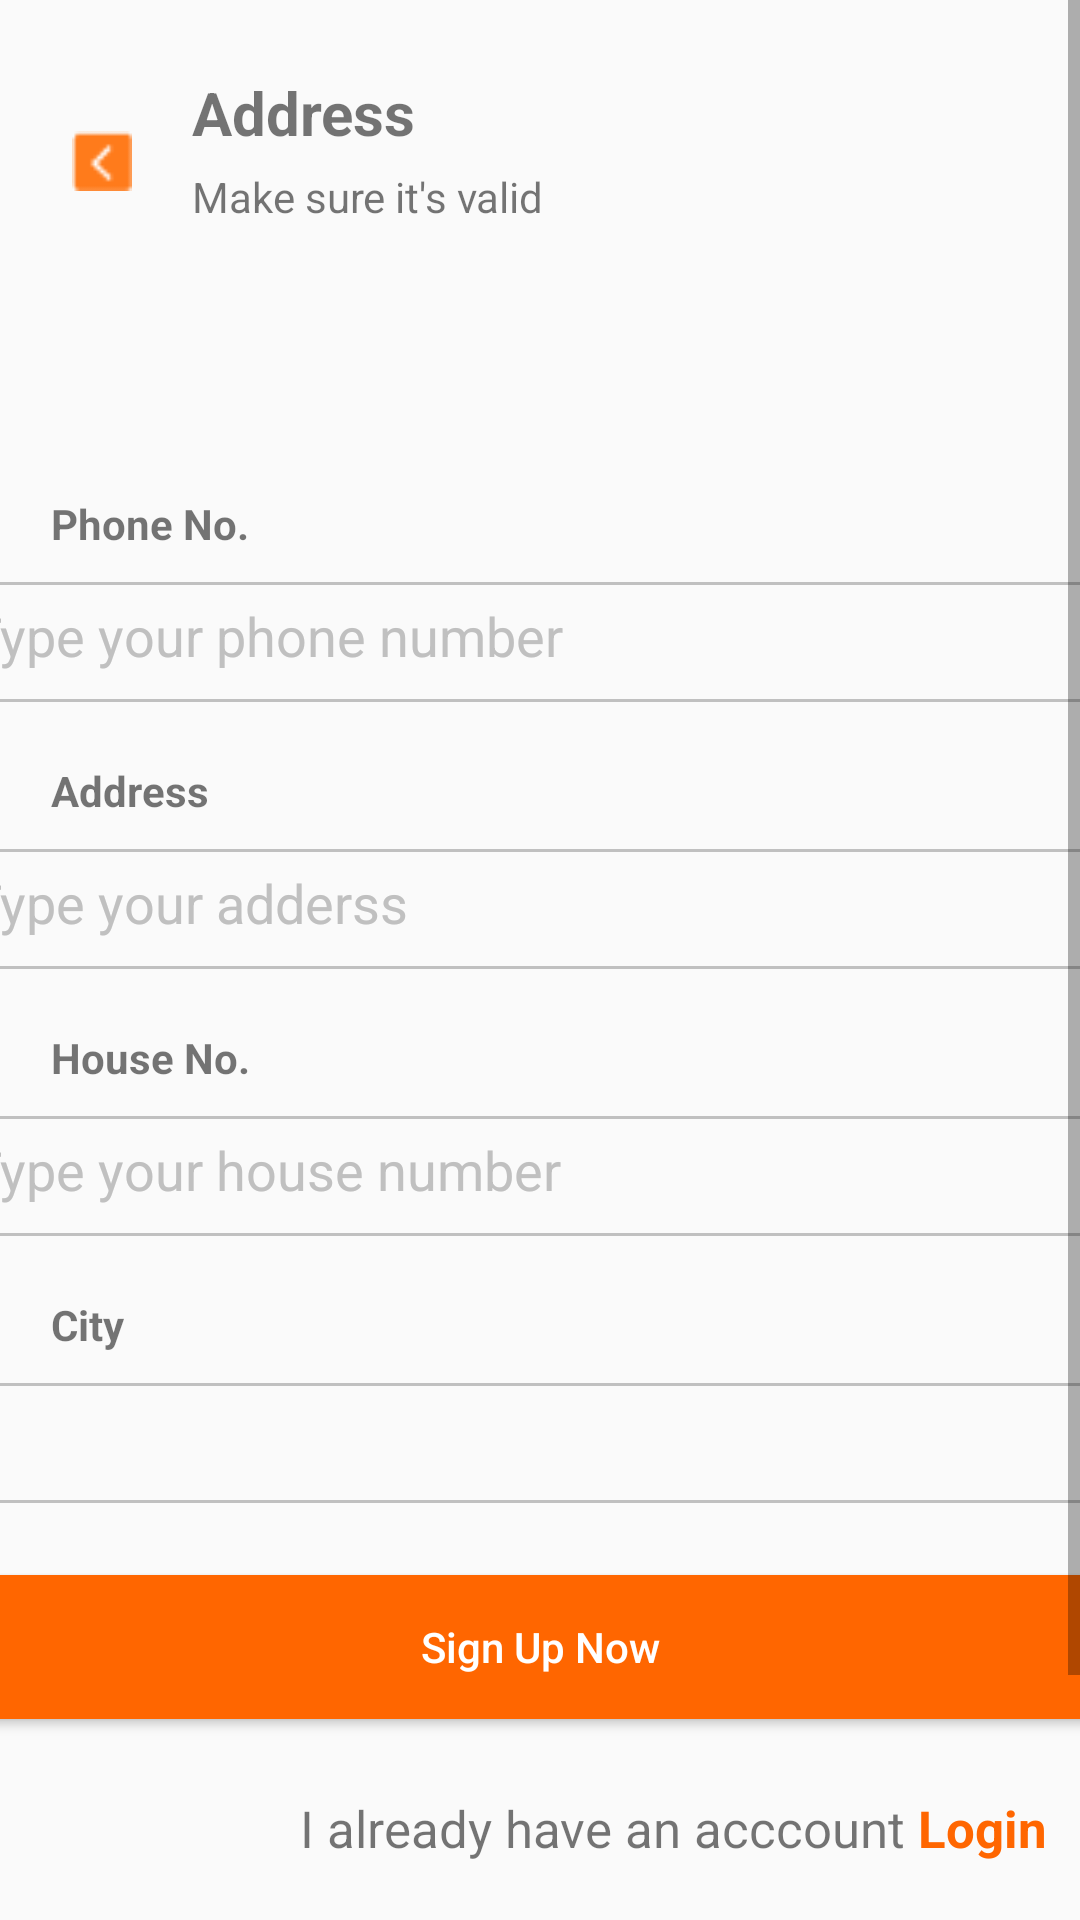

Icons on this 1080x1920 Android screen, each with the point to tap as [x,y]:
back: [102,161]
